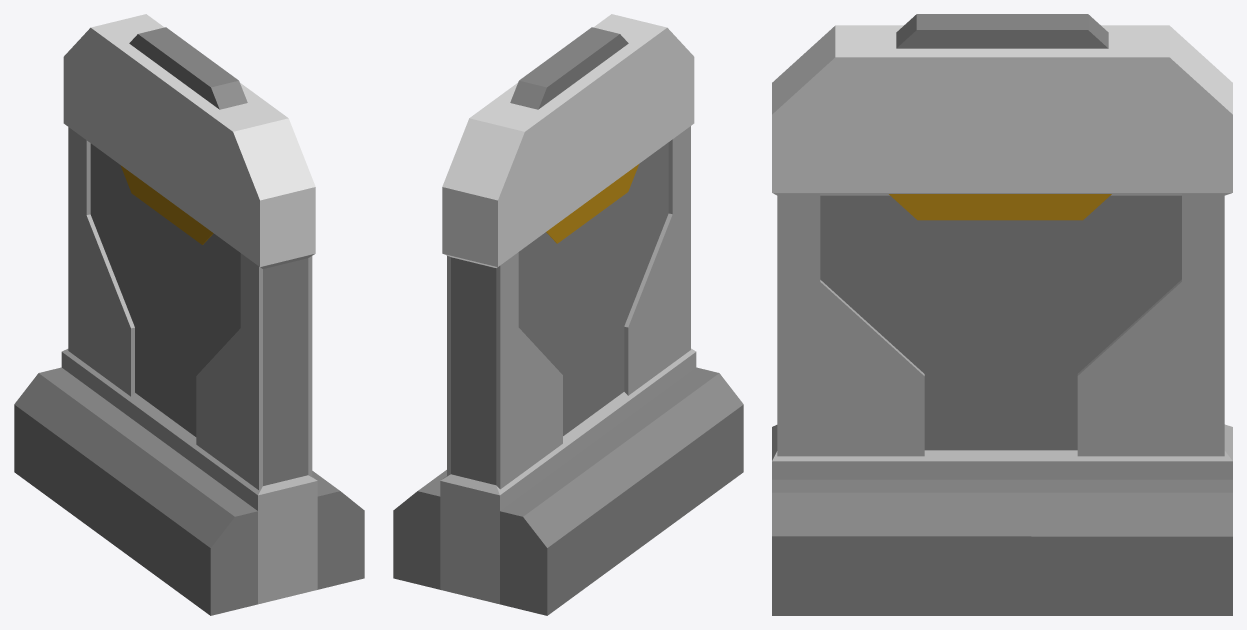
The model's file is SM_Wall_2x2_2.fbx.
The picture shows the model from 3 angles, left to right: view 1: azimuth 30°, elevation 25°; view 2: azimuth 150°, elevation 25°; view 3: azimuth 270°, elevation 25°; orthographic projection. The views are drawn at different scales.
Parts seen in each view (by area): view 1: SM_Wall_2x2_2; view 2: SM_Wall_2x2_2; view 3: SM_Wall_2x2_2.
Boxes of the visible parts, bbox=[...] form: SM_Wall_2x2_2: bbox=[14, 14, 364, 615]; SM_Wall_2x2_2: bbox=[393, 14, 743, 615]; SM_Wall_2x2_2: bbox=[772, 14, 1232, 615].
Bounding box in the file's own units: 67.95 × 197 × 150.
